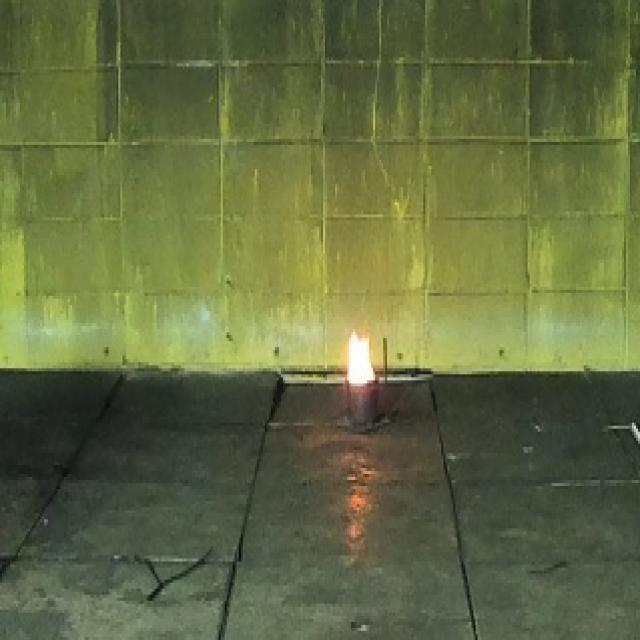Fire: (348, 329, 376, 387)
